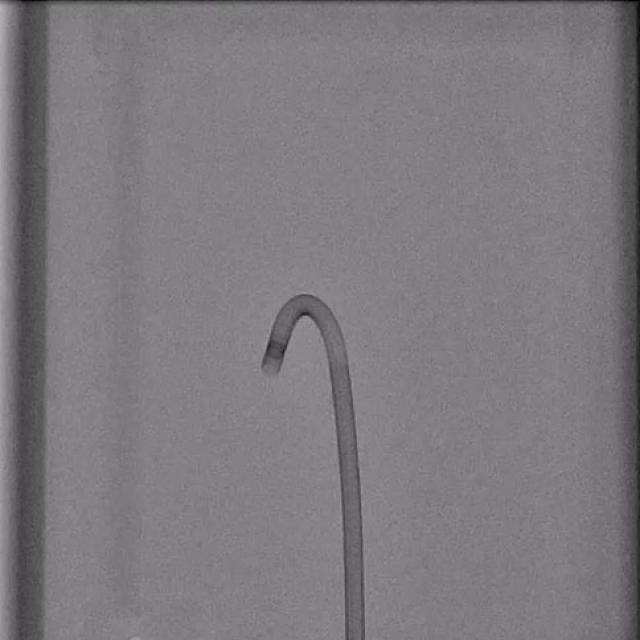bend: (328, 351, 348, 365)
entry: (345, 634, 363, 640)
marker: (266, 340, 288, 361)
tip: (261, 364, 280, 375)
